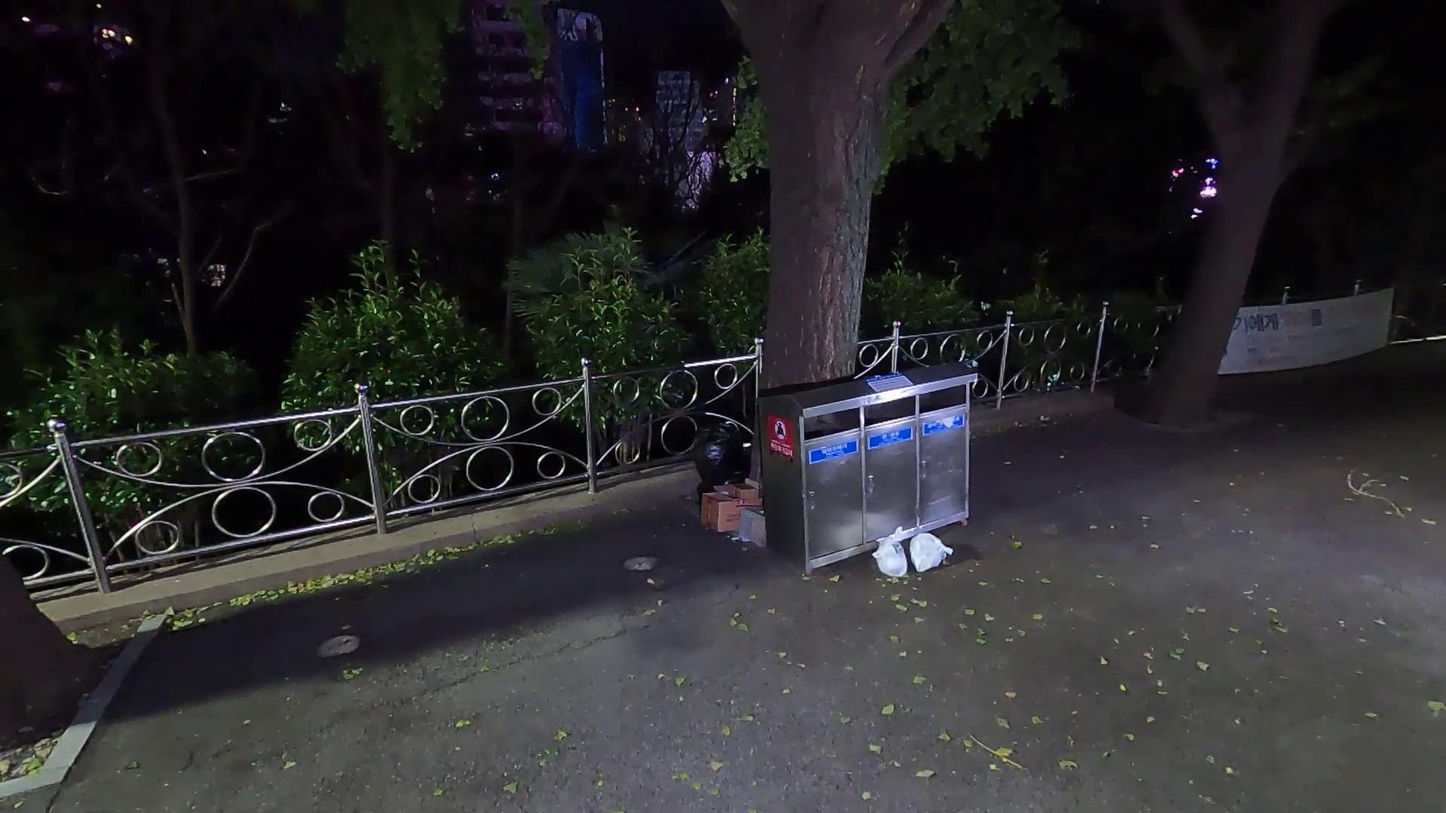trash: (698, 421, 753, 515), (704, 485, 767, 535), (905, 527, 957, 574), (869, 527, 910, 583), (719, 473, 764, 510), (734, 507, 769, 549)
